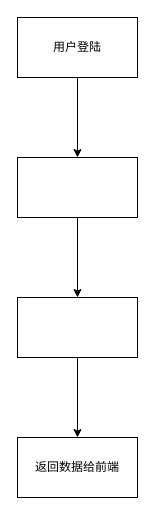
The diagram is 155 pixels wide and 515 high, and some of its shapes have lost their labels. Each missing label, with the centre of its shape:
"根据用户配置的法院筛选相关数据" goes at point (77, 327).
"获取用户配置的法院" goes at point (77, 187).
